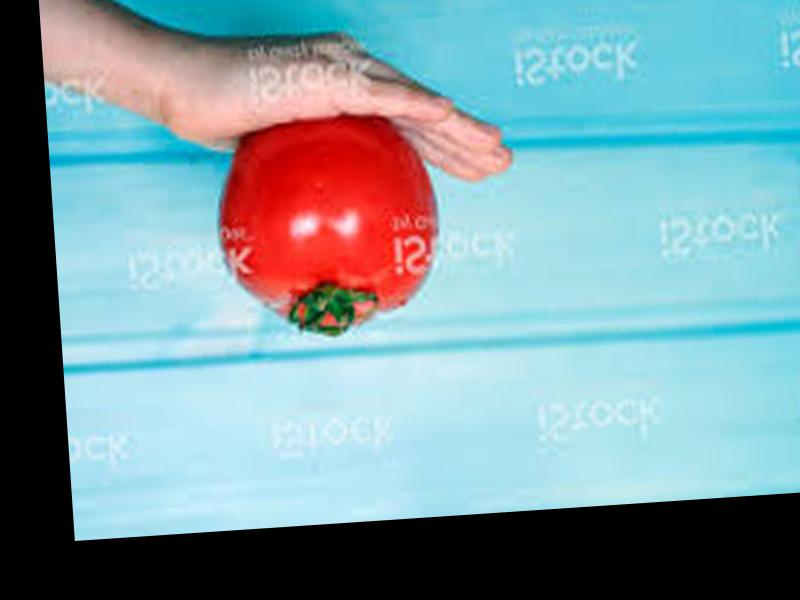Tomato: (216, 109, 445, 339)
